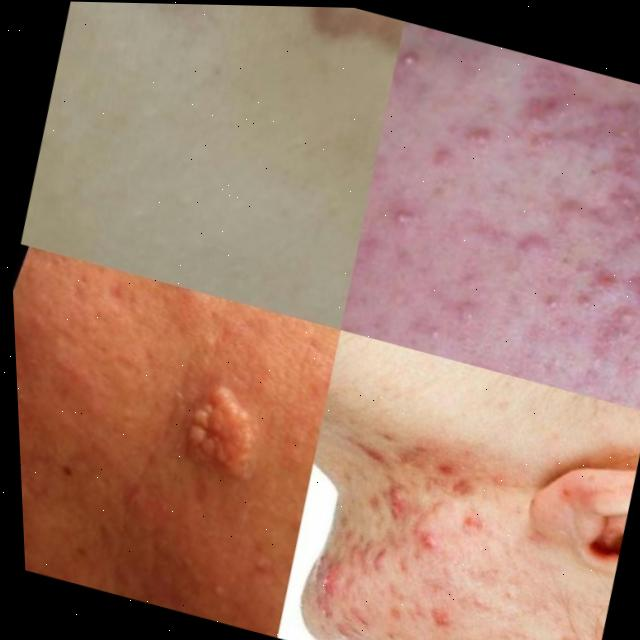Acne: (382, 89, 640, 320), (315, 433, 527, 640), (312, 7, 417, 43), (194, 408, 235, 458)
